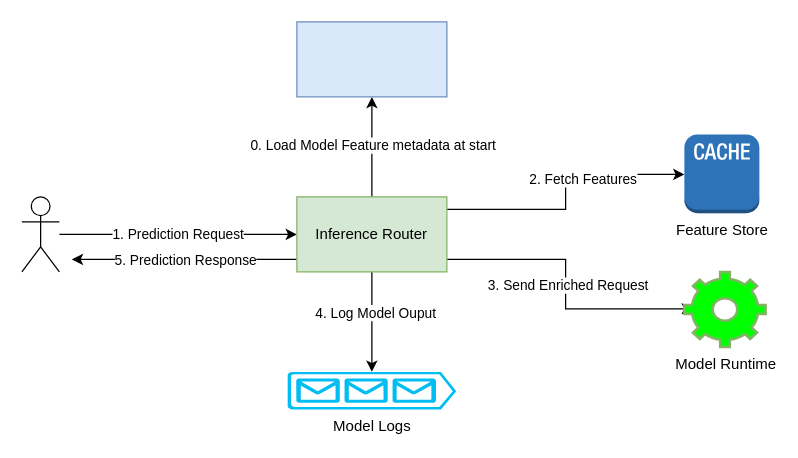
This 798x458 diagram has some shape labels left out. The box of each missing label's shape, as (x1, y1, x2, y2) in pixels:
Model Registry: (296, 21, 447, 97)
User: (21, 196, 59, 272)
